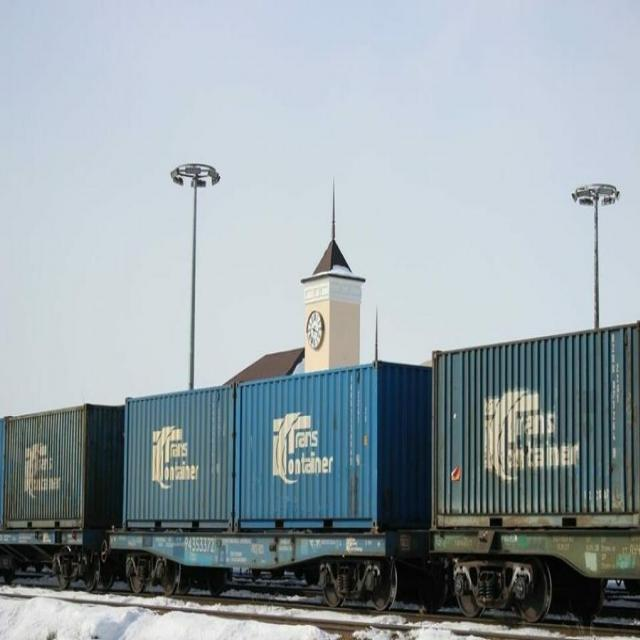container: (428, 313, 640, 532), (234, 356, 432, 533), (121, 378, 236, 530), (6, 401, 121, 532)
flatcar: (106, 529, 429, 612), (424, 531, 640, 631), (0, 526, 108, 592)
